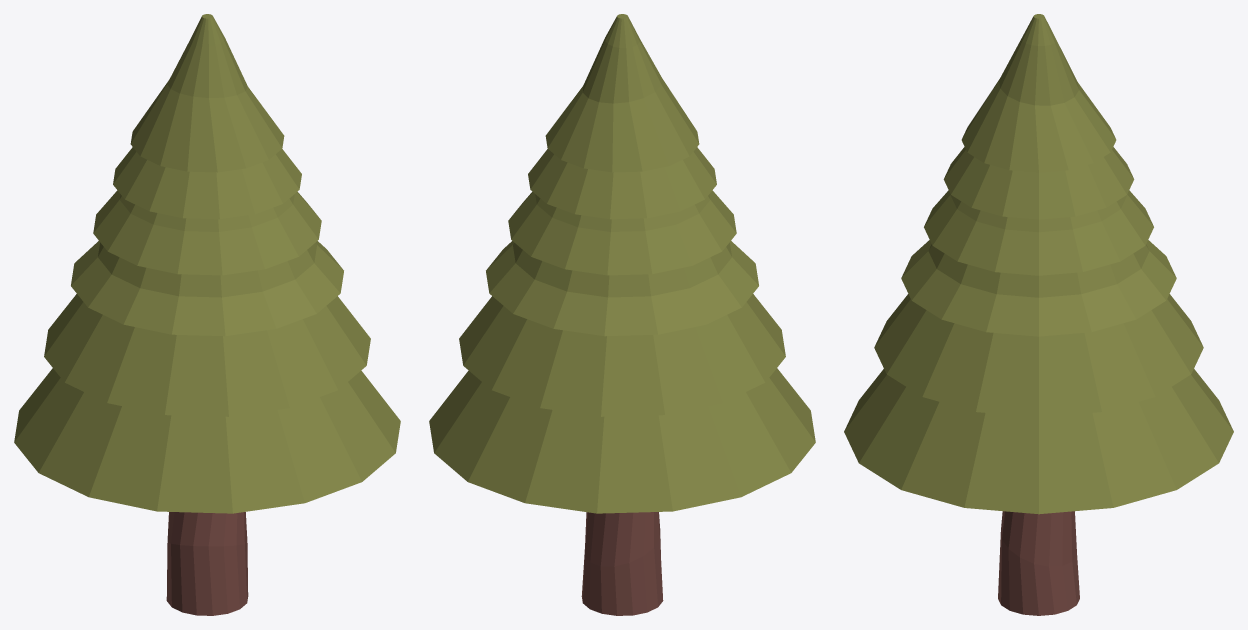
The model's file is Wintertree.fbx.
The picture shows the model from 3 angles, left to right: view 1: azimuth 30°, elevation 25°; view 2: azimuth 150°, elevation 25°; view 3: azimuth 270°, elevation 25°; orthographic projection.
Visible parts, largest first — view 1: Cylinder.004, Cylinder; view 2: Cylinder.004, Cylinder; view 3: Cylinder.004, Cylinder.
Part boxes in pixels (<box>): Cylinder.004: <box>14,14,400,513</box>; Cylinder: <box>166,512,248,615</box>; Cylinder.004: <box>429,14,815,513</box>; Cylinder: <box>581,512,663,615</box>; Cylinder.004: <box>844,14,1233,514</box>; Cylinder: <box>998,511,1079,615</box>.
Size of the model in its own units: 525 by 866 by 525.
